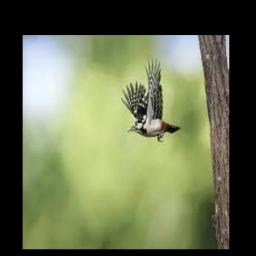Woodpecker: (120, 55, 180, 142)
